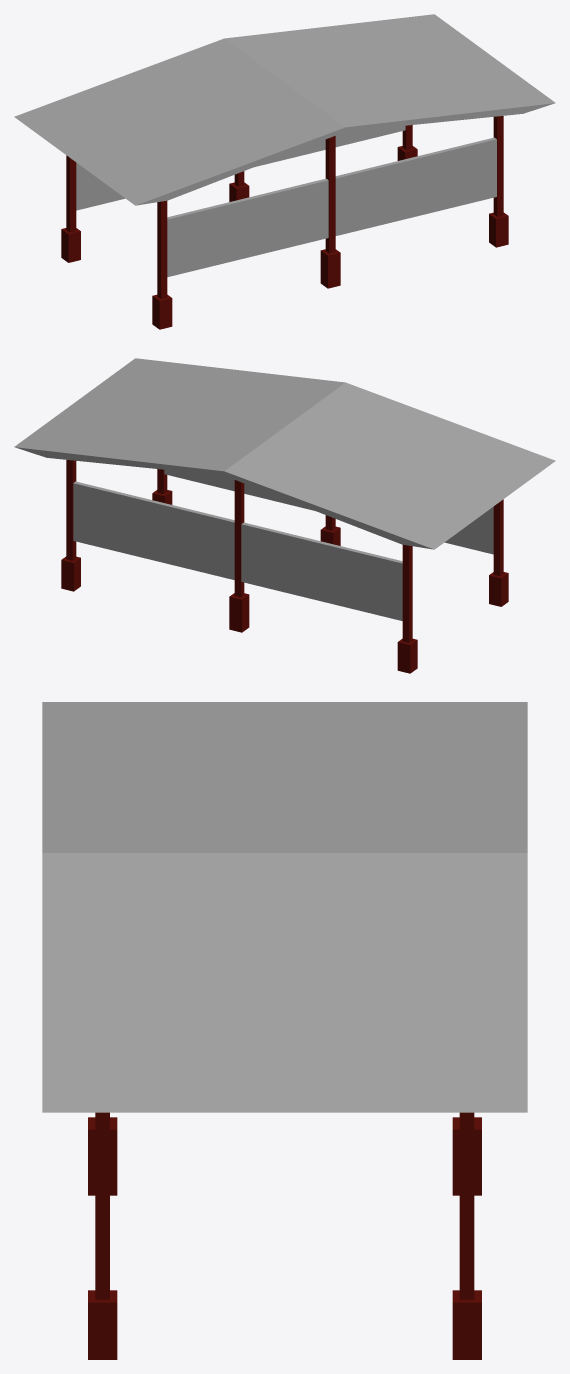
File: CartParking.fbx
3 views of the same model, one above another, from view 1: azimuth 30°, elevation 25°; view 2: azimuth 150°, elevation 25°; view 3: azimuth 270°, elevation 25° (orthographic). The views are drawn at different scales.
Parts seen in each view (by area): view 1: CartParking; view 2: CartParking; view 3: CartParking.
Boxes of the visible parts, x1,y1,x2,y2 form: CartParking: (14, 14, 555, 329); CartParking: (14, 358, 555, 673); CartParking: (42, 702, 527, 1359).
Bounding box in the file's own units: 2000 × 764 × 1000.
